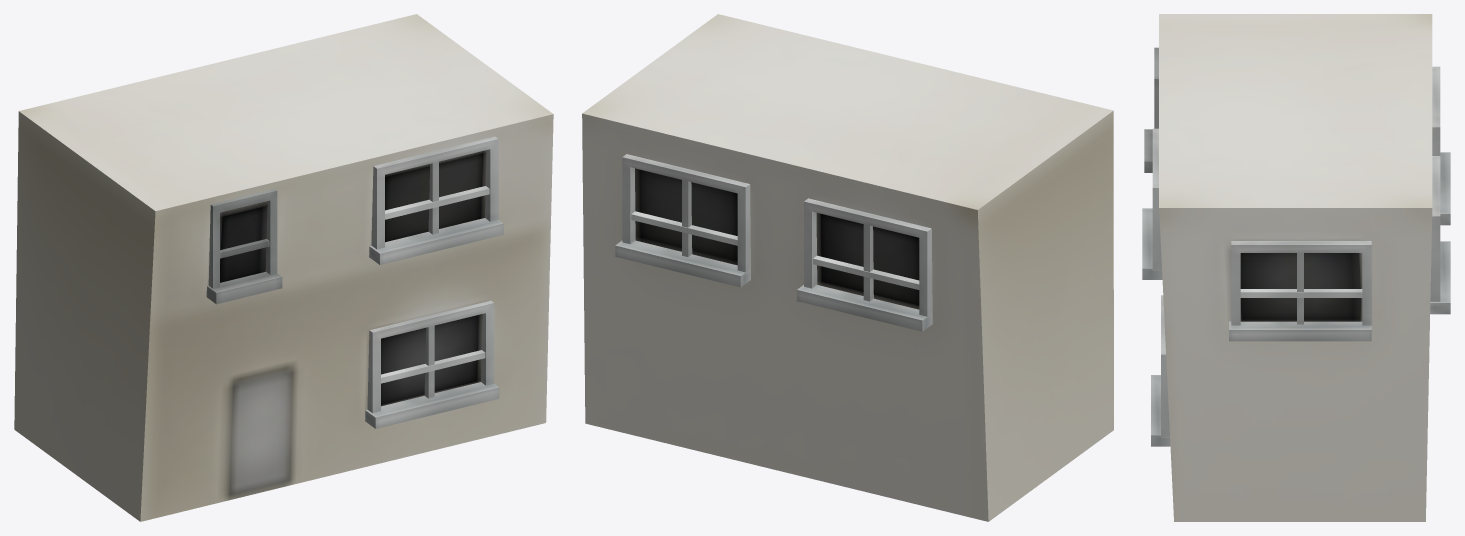
File: B11Broke01.FBX
3 renders of one model, left to right at view 1: azimuth 30°, elevation 25°; view 2: azimuth 150°, elevation 25°; view 3: azimuth 270°, elevation 25°, orthographic.
Visible parts, largest first — view 1: B11Broke01; view 2: B11Broke01; view 3: B11Broke01.
Boxes of the visible parts, x1=… form: B11Broke01: x1=14, y1=14, x2=553, y2=521; B11Broke01: x1=582, y1=14, x2=1113, y2=521; B11Broke01: x1=1142, y1=14, x2=1450, y2=521.
Bounding box in the file's own units: 53.6 × 38.1 × 33.88.
